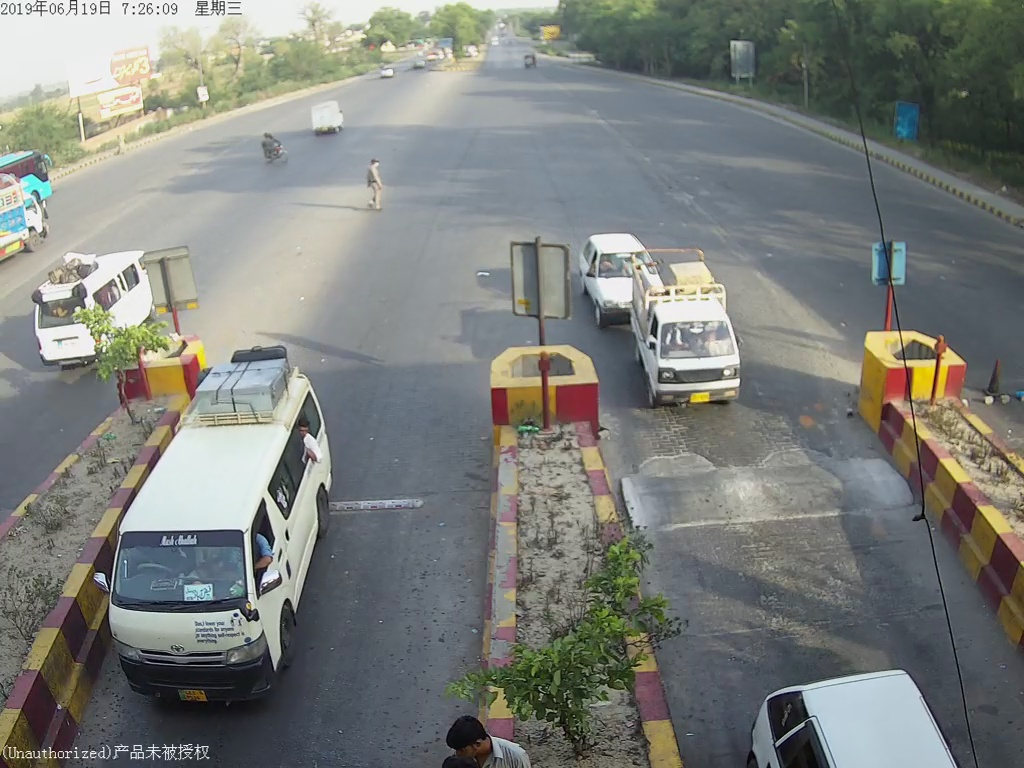Cat-1: (629, 250, 753, 410)
Cat-2: (93, 328, 348, 721)
